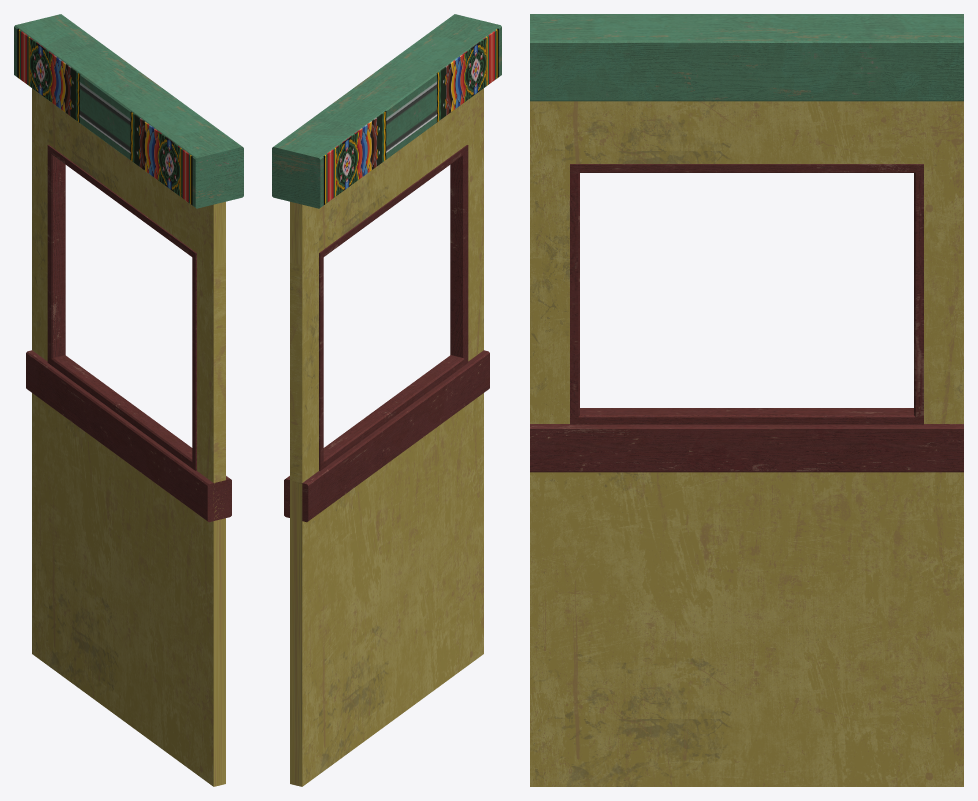
File: SM_Wall03b.fbx
The picture shows the model from 3 angles, left to right: view 1: azimuth 30°, elevation 25°; view 2: azimuth 150°, elevation 25°; view 3: azimuth 270°, elevation 25°; orthographic projection. The views are drawn at different scales.
Parts seen in each view (by area): view 1: SM_Wall03b; view 2: SM_Wall03b; view 3: SM_Wall03b.
Boxes of the visible parts, <box> form: SM_Wall03b: <box>14,14,243,786</box>; SM_Wall03b: <box>272,14,501,786</box>; SM_Wall03b: <box>530,14,963,786</box>.
Size of the model in its own units: 20 by 250 by 130.
